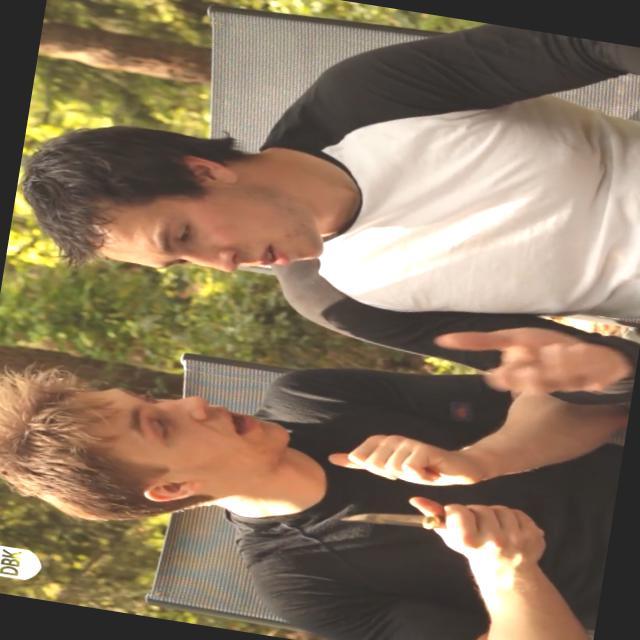knife: (322, 474, 514, 564)
